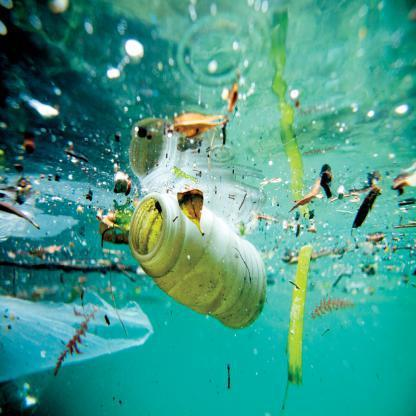Rác: (125, 190, 269, 334), (1, 294, 152, 384), (287, 242, 314, 388)
